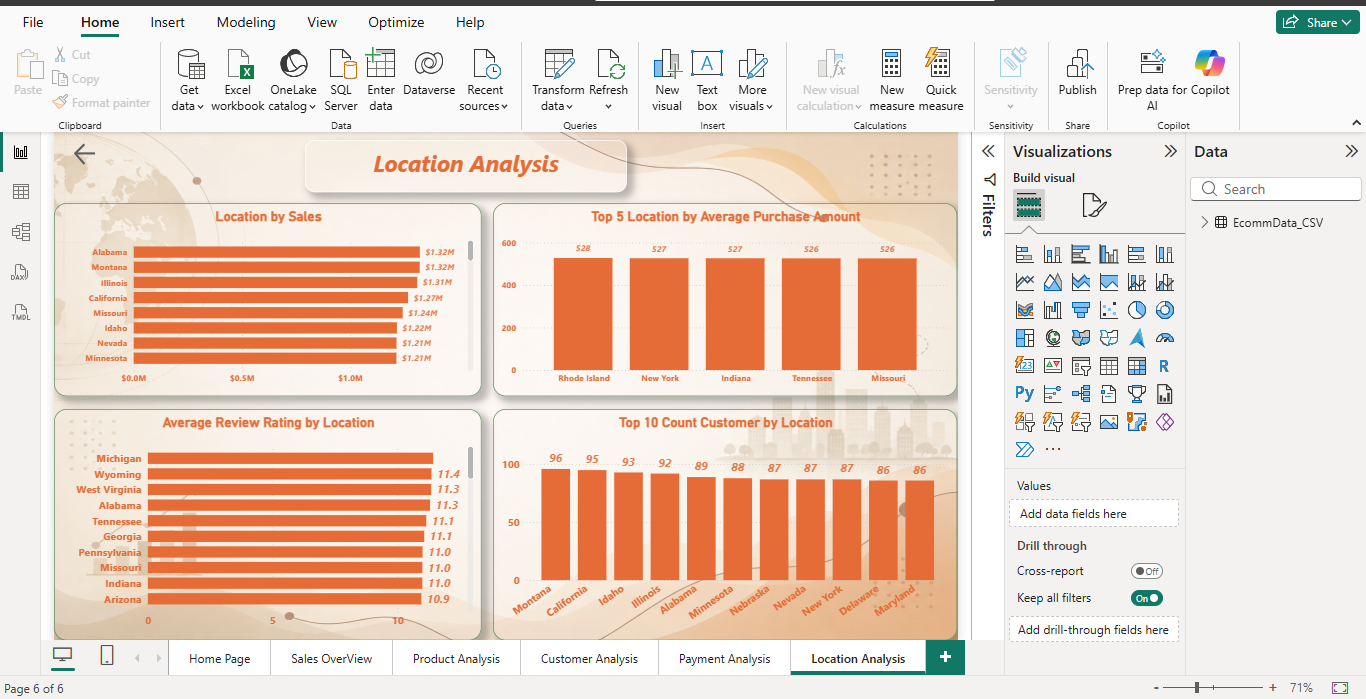

The dashboard page shown, as its layout file describes it:
{"tool":"powerbi","page":{"name":"Location Analysis","canvas":[1280,720],"ordinal":5},"visuals":[{"type":"textbox","box":[355.7,11.3,456.4,73.7],"z":0},{"type":"clusteredBarChart","title":"Average Review Rating by Location","fields":{"Category":["EcommData_CSV.Location"],"Y":["EcommData_CSV.Average Review Rating"]},"box":[0,393.1,606.4,327.6],"z":1000},{"type":"clusteredColumnChart","title":"Top 10 Count Customer by Location ","fields":{"Category":["EcommData_CSV.Location"],"Y":["EcommData_CSV.Total Customers"]},"box":[621.5,393.1,658.5,327.6],"z":2000},{"type":"clusteredColumnChart","title":"Top 5 Location by Average Purchase Amount","fields":{"Category":["EcommData_CSV.Location"],"Y":["EcommData_CSV.Average Purchase Amount"]},"box":[621.5,100.8,658.5,273.8],"z":3000},{"type":"clusteredBarChart","title":"Location by  Sales","fields":{"Category":["EcommData_CSV.Location"],"Y":["EcommData_CSV.Total Sales"]},"box":[0,100.8,606.4,273.8],"z":4000},{"type":"actionButton","box":[24.1,11.3,100,40],"z":5000}]}

Visuals, with their boxes on the page's 1280x720 design canvas (x1, y1, x2, y2). These are canvas units, not pixel positions in the 1366x699 screenshot, which may show the page scaled, cropped or inside an application window:
textbox: <bbox>356, 11, 812, 85</bbox>
"Average Review Rating by Location" clusteredBarChart: <bbox>0, 393, 606, 721</bbox>
"Top 10 Count Customer by Location " clusteredColumnChart: <bbox>622, 393, 1280, 721</bbox>
"Top 5 Location by Average Purchase Amount" clusteredColumnChart: <bbox>622, 101, 1280, 375</bbox>
"Location by  Sales" clusteredBarChart: <bbox>0, 101, 606, 375</bbox>
actionButton: <bbox>24, 11, 124, 51</bbox>
